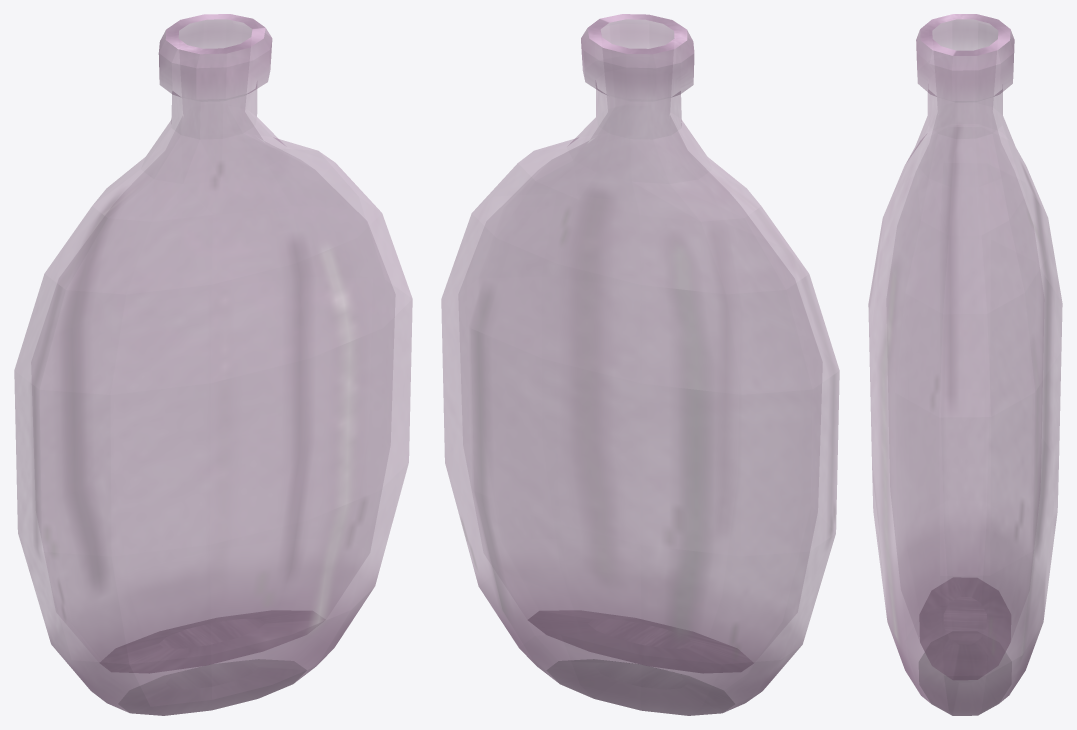
Rendered from Cantil-de-Vidro-Fume.glb.
3 renders of one model, left to right at view 1: azimuth 30°, elevation 25°; view 2: azimuth 150°, elevation 25°; view 3: azimuth 270°, elevation 25°, orthographic.
Parts seen in each view (by area): view 1: Cantil achatado; view 2: Cantil achatado; view 3: Cantil achatado.
Part boxes in pixels (x1=…): Cantil achatado: x1=14, y1=14, x2=412, y2=715; Cantil achatado: x1=441, y1=14, x2=839, y2=715; Cantil achatado: x1=868, y1=14, x2=1062, y2=715.
Size of the model in its own units: 0.1143 by 0.191 by 0.0525.
1 material, 1 textured.
